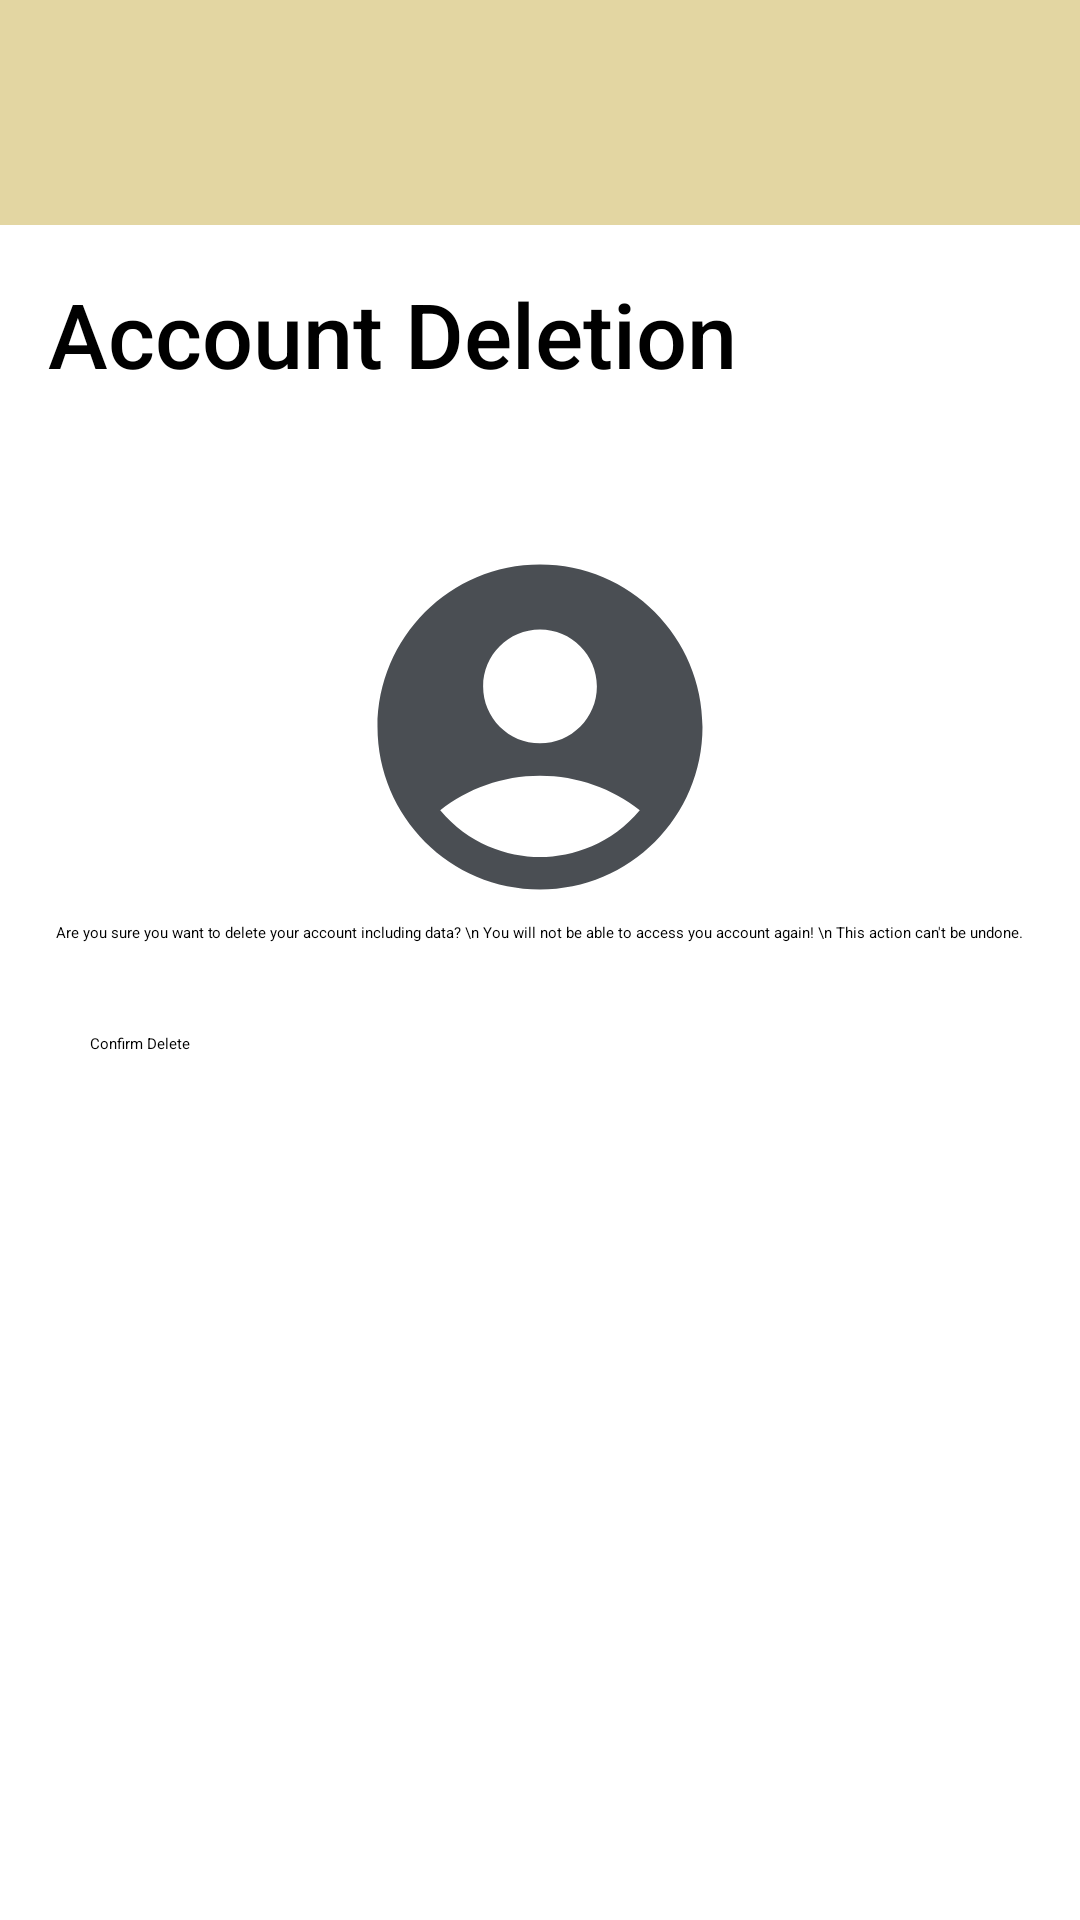

Locate icon controls on the screen. Image size 1080x1920, boxes as (x1, y1, x2, y2).
account circle: (377, 564, 703, 890)
